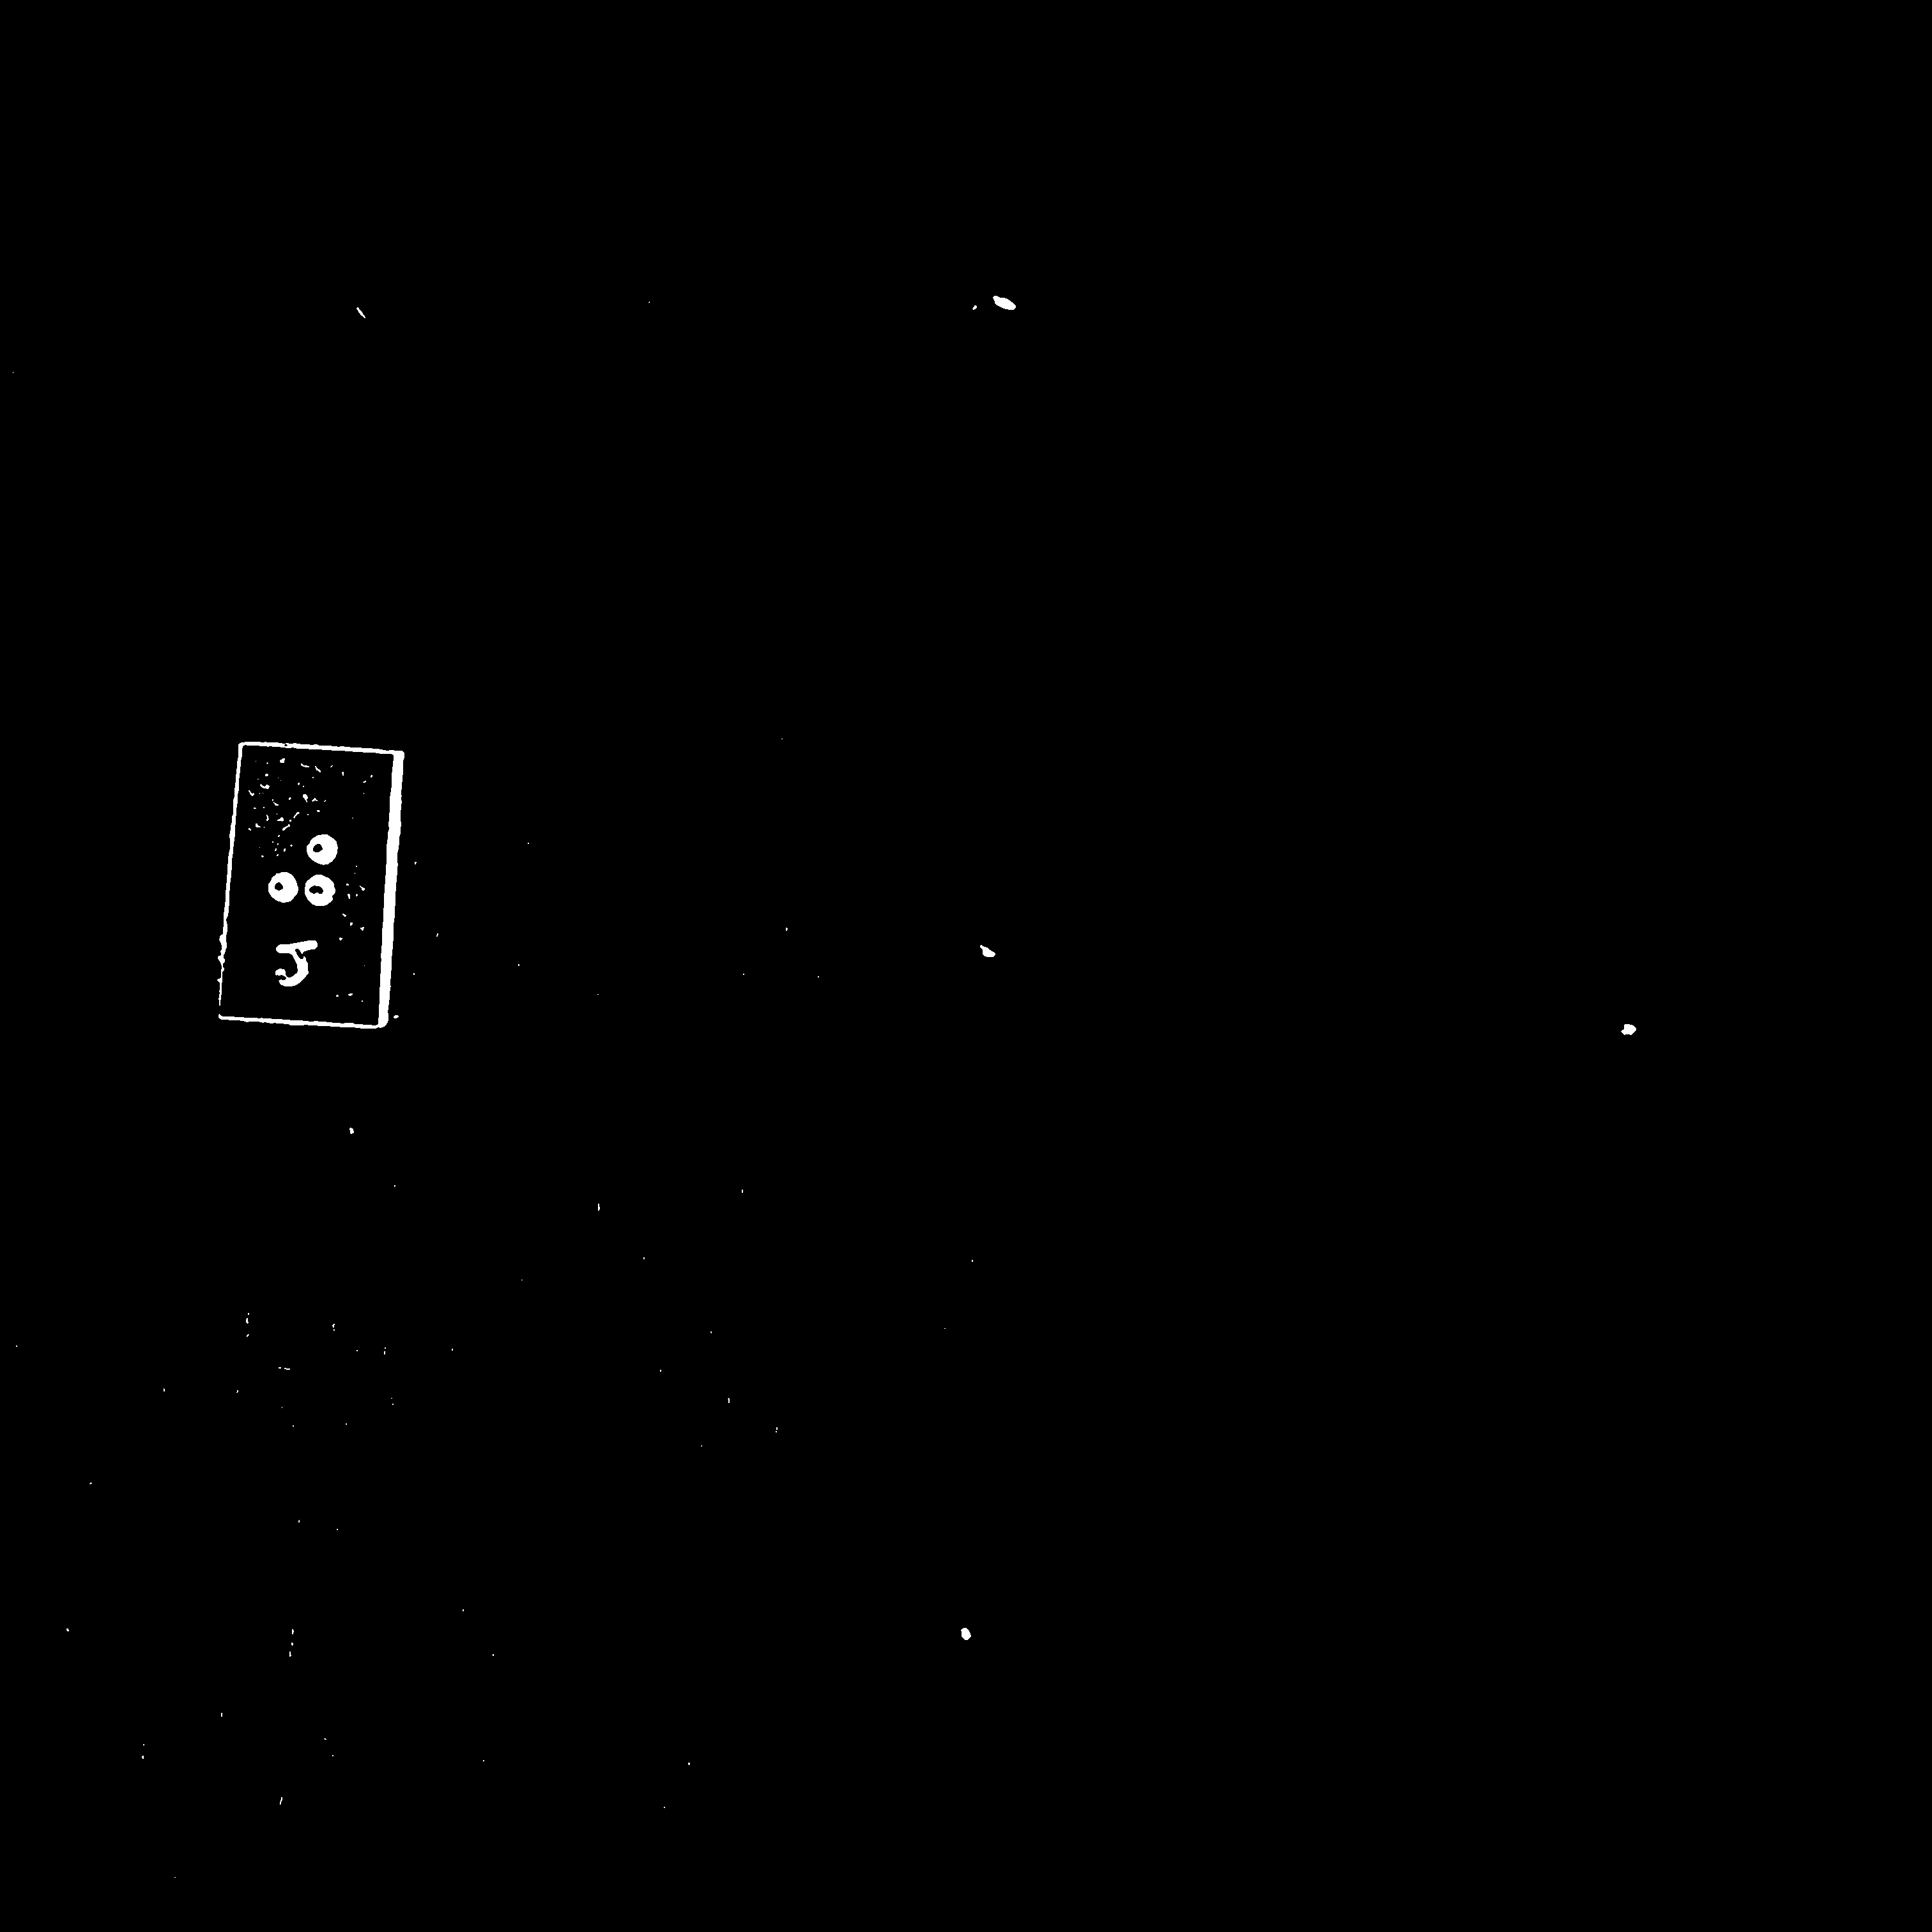j: (256, 802, 346, 942)
